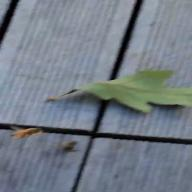Bee: (8, 123, 46, 140), (57, 139, 87, 155)
